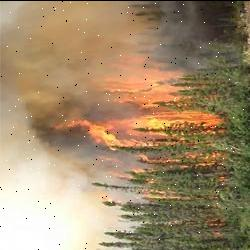fire: (46, 63, 222, 176)
